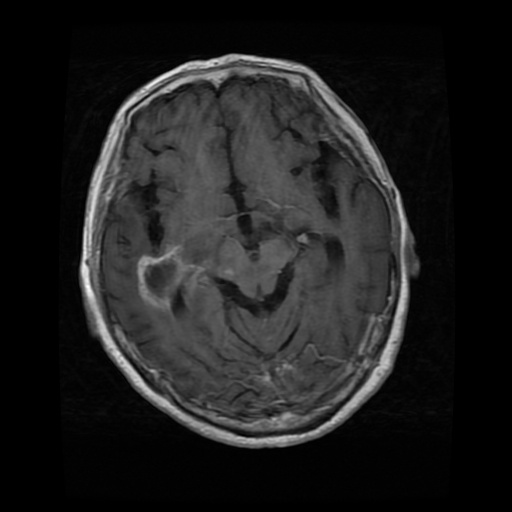glioma: (136, 244, 202, 312)
